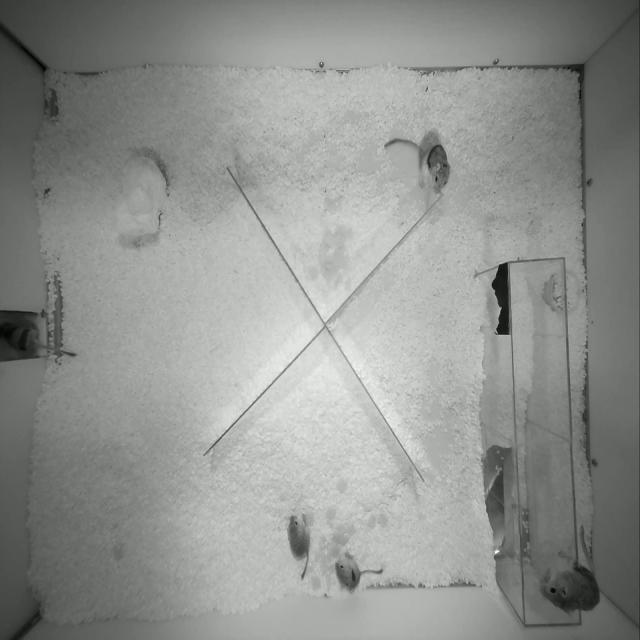adult_back: (541, 525, 599, 613)
adult_front: (385, 139, 450, 192)
pup_fluffy: (288, 515, 310, 579)
pup_h_stripe: (0, 322, 56, 352), (60, 349, 76, 356)
pup_spotted: (335, 551, 383, 590)
